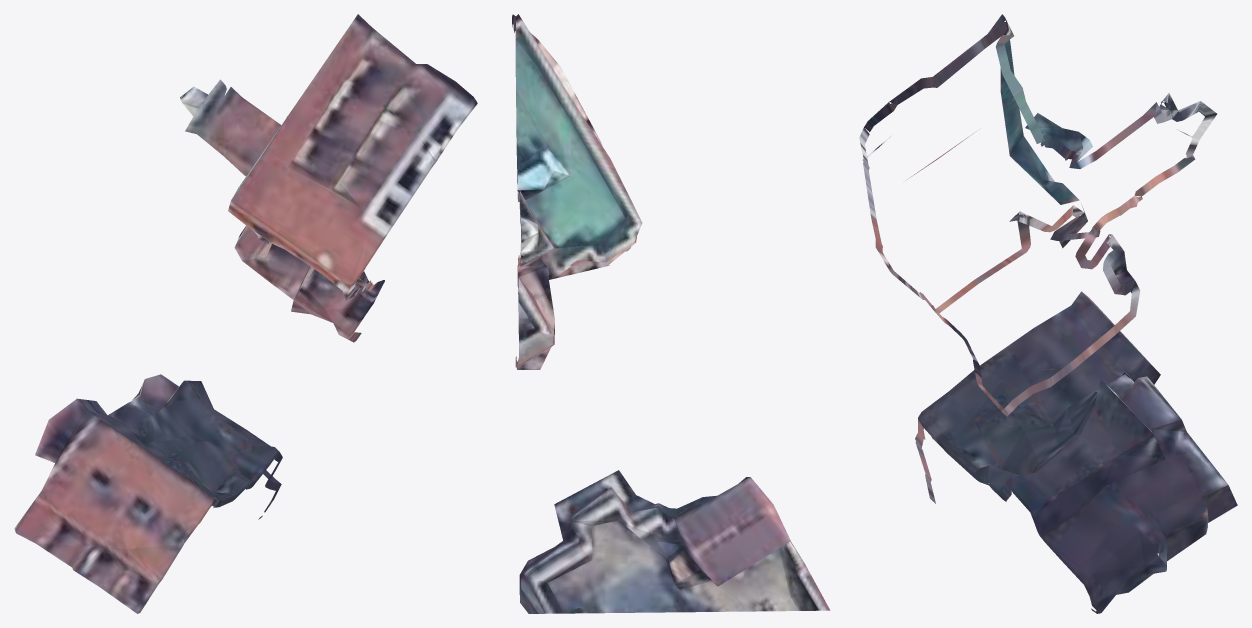
3 renders of one model, left to right at view 1: azimuth 30°, elevation 25°; view 2: azimuth 150°, elevation 25°; view 3: azimuth 270°, elevation 25°, orthographic. The views are drawn at different scales.
Size of the model in its own units: 25.87 by 33.61 by 18.11.
1 material, 1 textured.
